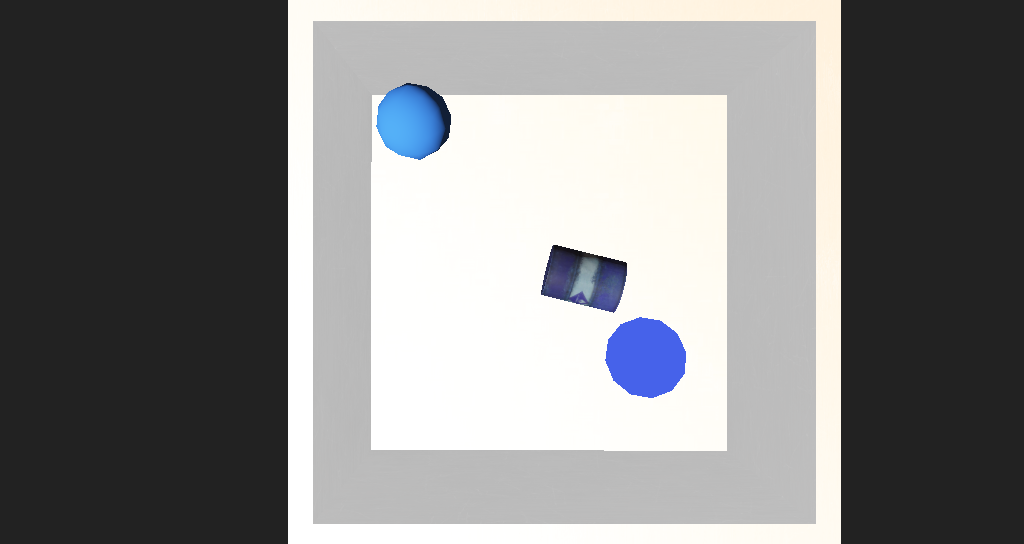cone: (502, 251, 576, 293)
cylinder: (549, 293, 623, 356)
sphere: (357, 160, 424, 203)
